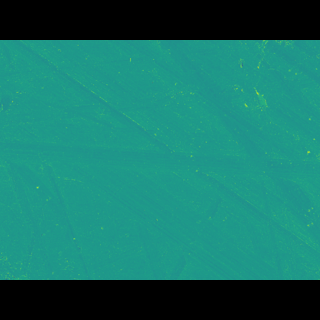Loch: (0, 100, 285, 250), (0, 144, 320, 181), (239, 104, 280, 129)
